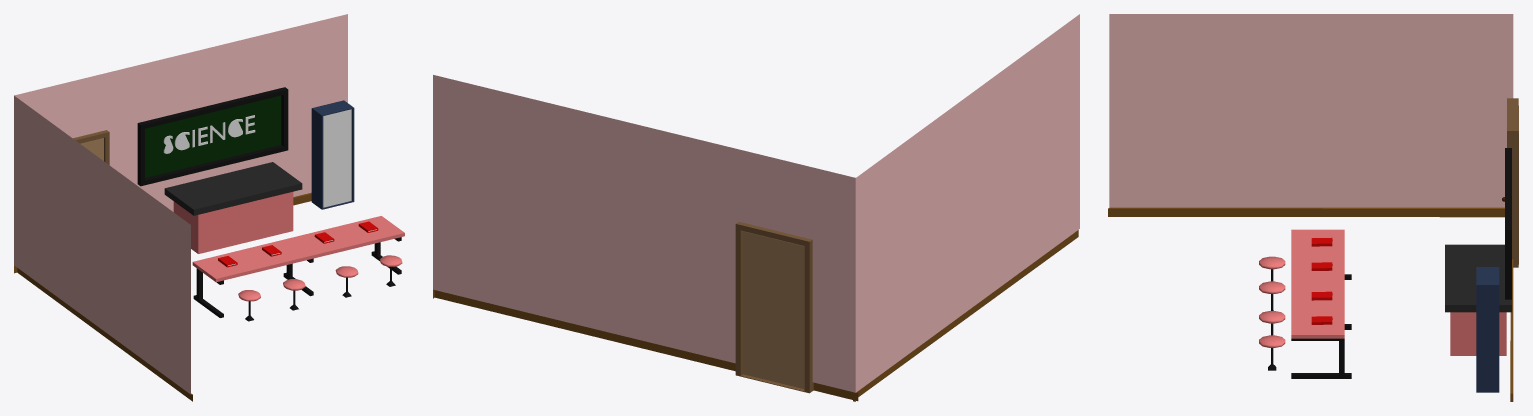
Rendered from Classroom3.fbx.
3 renders of one model, left to right at view 1: azimuth 30°, elevation 25°; view 2: azimuth 150°, elevation 25°; view 3: azimuth 270°, elevation 25°, orthographic. The views are drawn at different scales.
Visible parts, largest first — view 1: DESK2.001, DESK2, Board_Chalk, Desk_Teacher, DESK2.002, Cube, Text, Door Out; view 2: DESK2, DESK2.001, Door Main, Door Out; view 3: DESK2.001, DESK2.002, Desk_Teacher, Cube, Door Out, Board_Chalk, DESK2, CHAİR2.007.
Part boxes in pixels (bbox=[...]): DESK2.001: bbox=[14, 95, 192, 401]; DESK2: bbox=[14, 14, 347, 273]; Board_Chalk: bbox=[137, 87, 288, 186]; Desk_Teacher: bbox=[164, 162, 302, 253]; DESK2.002: bbox=[192, 216, 404, 317]; Cube: bbox=[311, 100, 354, 209]; Text: bbox=[163, 115, 255, 153]; Door Out: bbox=[73, 130, 109, 164]; DESK2: bbox=[433, 75, 858, 401]; DESK2.001: bbox=[853, 14, 1079, 401]; Door Main: bbox=[743, 231, 804, 388]; Door Out: bbox=[735, 221, 813, 393]; DESK2.001: bbox=[1108, 14, 1513, 217]; DESK2.002: bbox=[1291, 229, 1351, 378]; Desk_Teacher: bbox=[1445, 244, 1511, 355]; Cube: bbox=[1476, 267, 1499, 392]; Door Out: bbox=[1507, 98, 1518, 267]; Board_Chalk: bbox=[1505, 148, 1511, 299]; DESK2: bbox=[1510, 259, 1513, 401]; CHAİR2.007: bbox=[1259, 335, 1285, 370].
Bounding box in the file's own units: 38.07 × 19.38 × 35.42.
